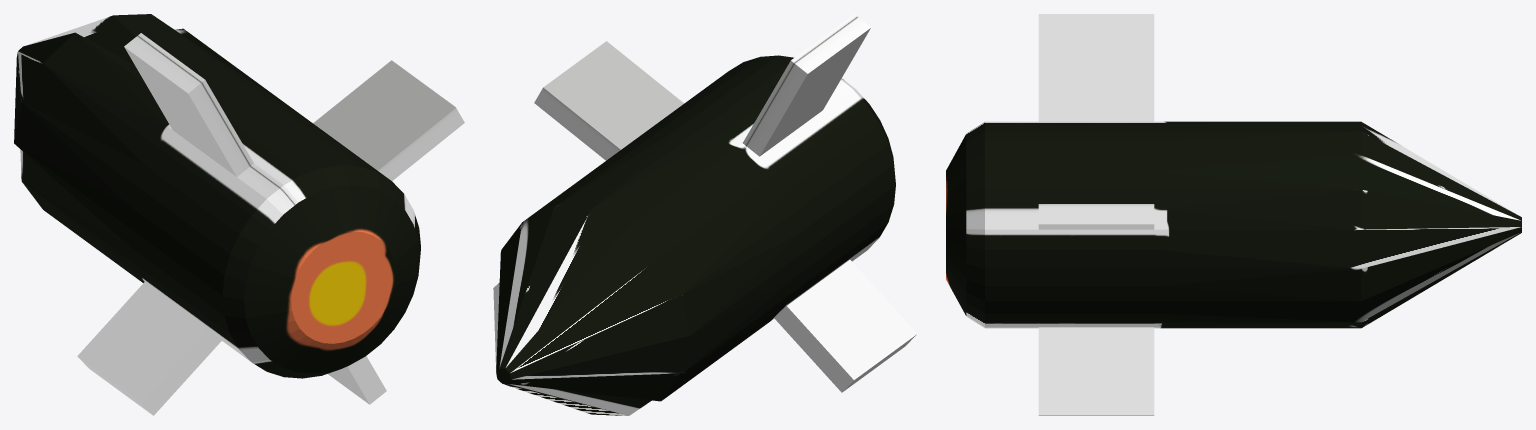
File: rocket.fbx
3 renders of one model, left to right at view 1: azimuth 30°, elevation 25°; view 2: azimuth 150°, elevation 25°; view 3: azimuth 270°, elevation 25°, orthographic. The views are drawn at different scales.
Parts seen in each view (by area): view 1: Cylinder; view 2: Cylinder; view 3: Cylinder.
Part boxes in pixels (x1,y1,x2,y2): Cylinder: (14,14,464,415); Cylinder: (493,14,917,415); Cylinder: (946,14,1521,415).
Bounding box in the file's own units: 229 × 247 × 391.
1 material, 1 textured.
